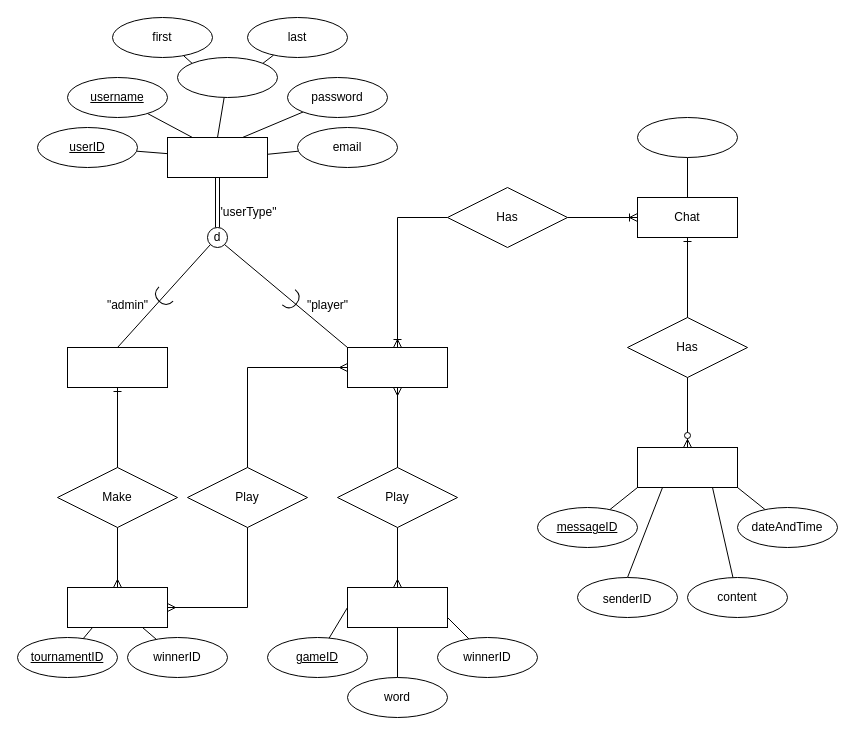
Image size: 855x735. Some labels were removed from this diagram. Each missing label, with the centre of its shape:
"Admin" belongs at pixel 117 367.
"chatID" belongs at pixel 687 137.
"Game" belongs at pixel 397 607.
"Message" belongs at pixel 687 467.
"name" belongs at pixel 227 77.
"Player" belongs at pixel 397 367.
"Tournament" belongs at pixel 117 607.
"User" belongs at pixel 217 157.
